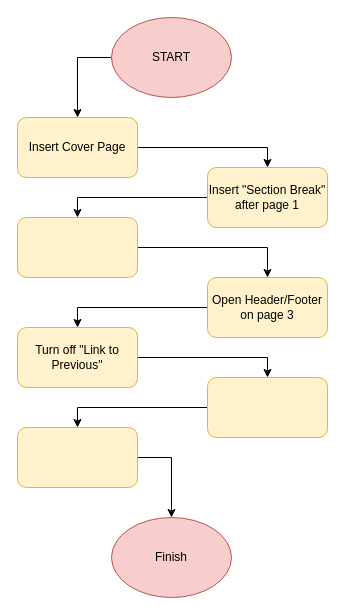
Some shapes in this 345 by 615 pixel diagram are drawn without their labels. Each missing label, with the centre of its shape:
Change page start number from 0 -1: (x=267, y=407)
Insert "Section Break" after page 2: (x=77, y=247)
Insert your page number: (x=77, y=457)
